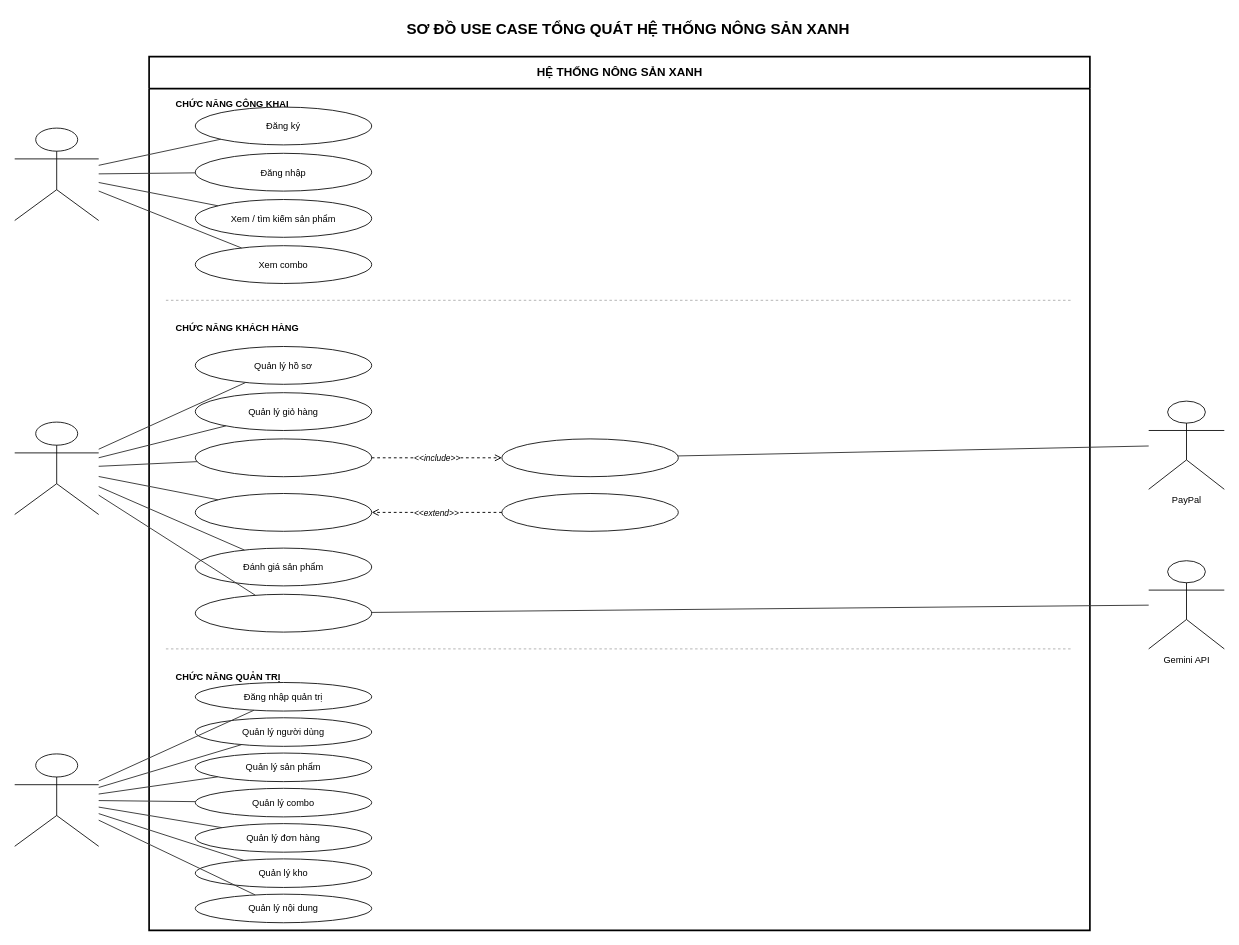
This 1239x945 diagram has some shape labels left out. Each missing label, with the centre of its shape:
"Hủy đơn hàng" goes at point 589,512.
"Khách hàng" goes at point 56,467.
"Khách truy cập" goes at point 56,173.
"Quản trị viên" goes at point 56,799.
"Sử dụng trợ lý món ăn" goes at point 283,612.
"Thanh toán PayPal" goes at point 589,457.
"Xem / theo dõi đơn" goes at point 283,512.
"Đặt hàng" goes at point 283,457.
